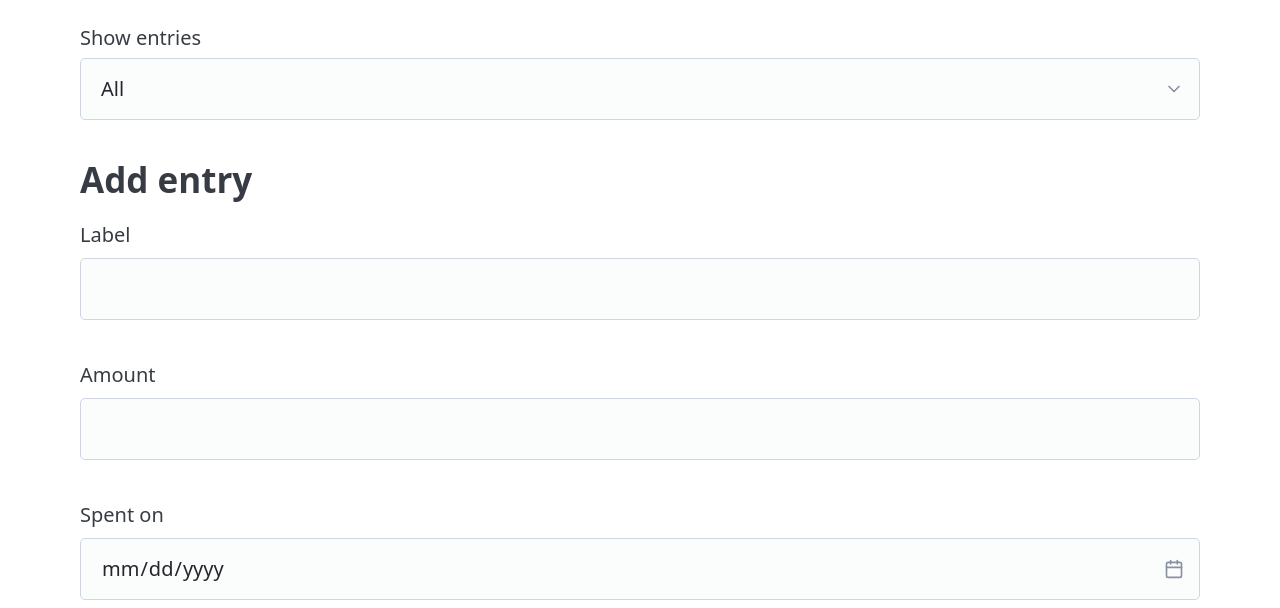
Test case: attribute kinds › round-trips a date and a textarea through the collection
Type "Rent" into the field labelled "Label" at point(640, 289), box left=80, top=258, right=1200, bottom=320
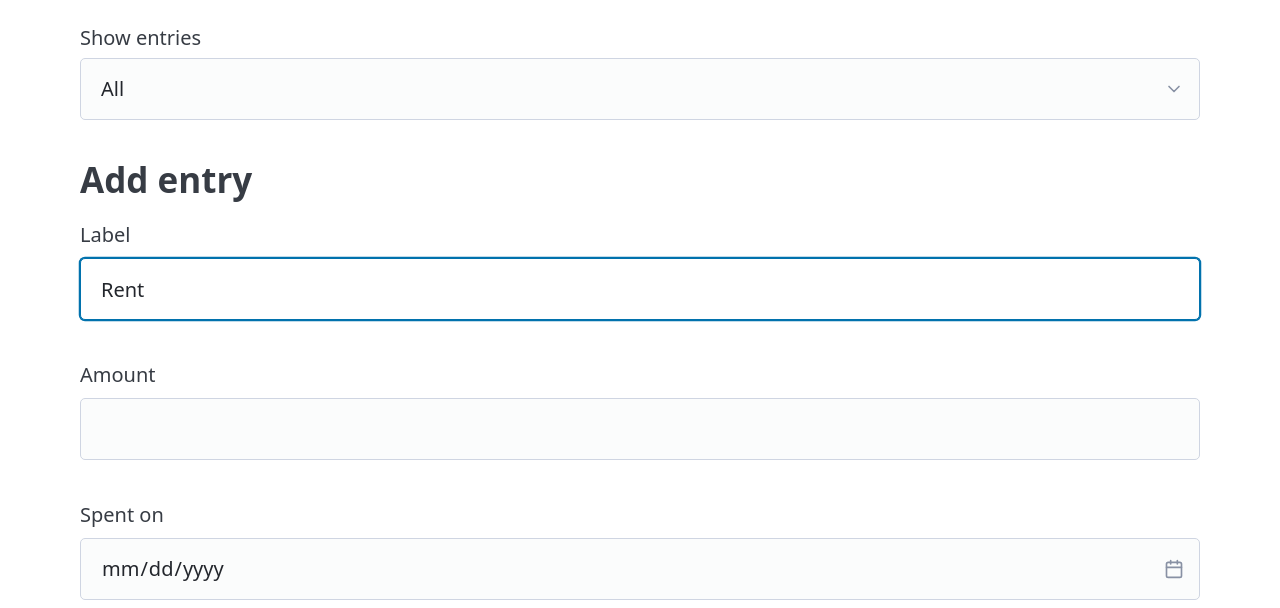
Type "1200" into the number field labelled "Amount" at point(640, 429), box left=80, top=398, right=1200, bottom=460
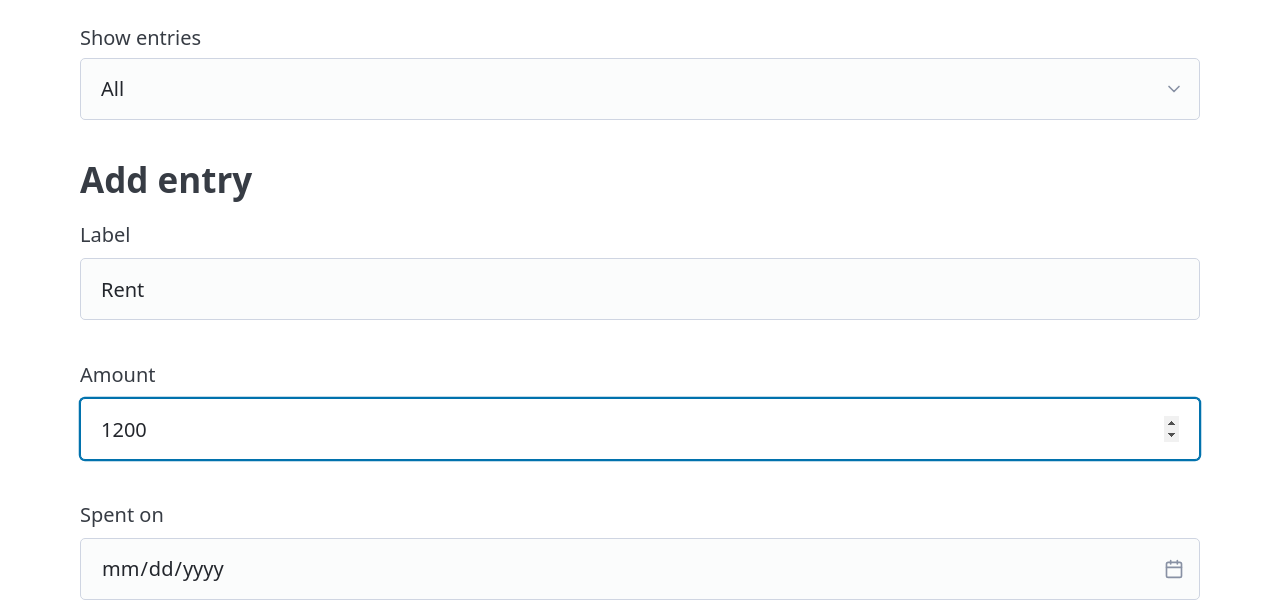
Type "2026-08-31" into the date field labelled "Spent on" at point(640, 569), box left=80, top=538, right=1200, bottom=600
(page scrolled)
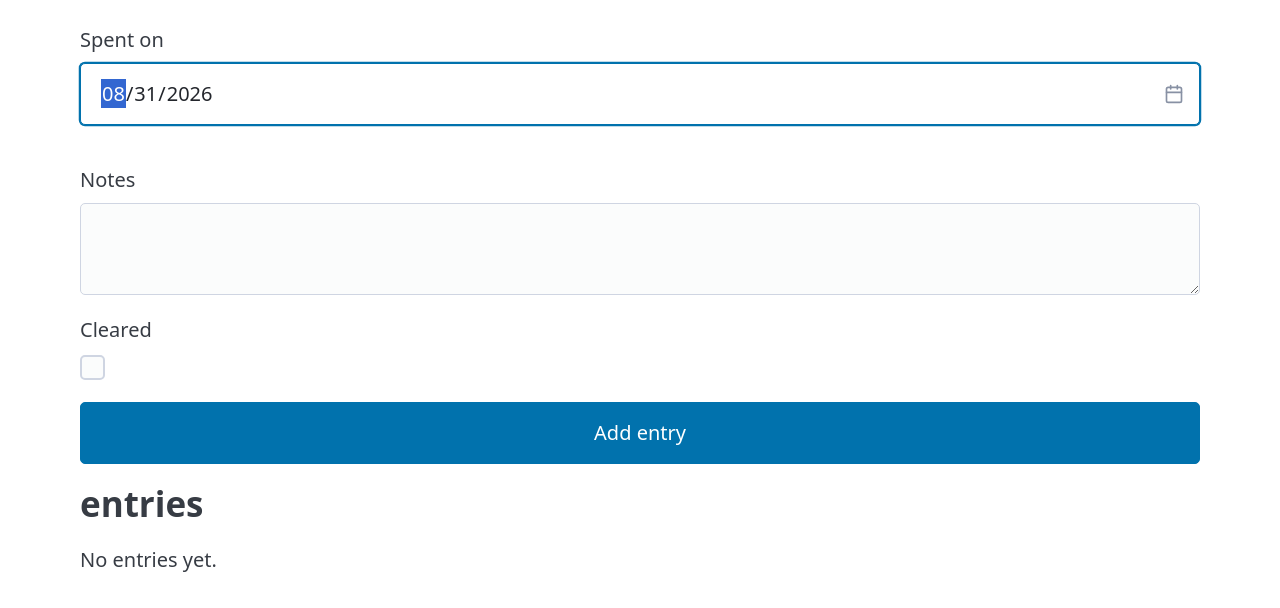
Type "monthly" into the text box labelled "Notes" at point(640, 249), box left=80, top=203, right=1200, bottom=295
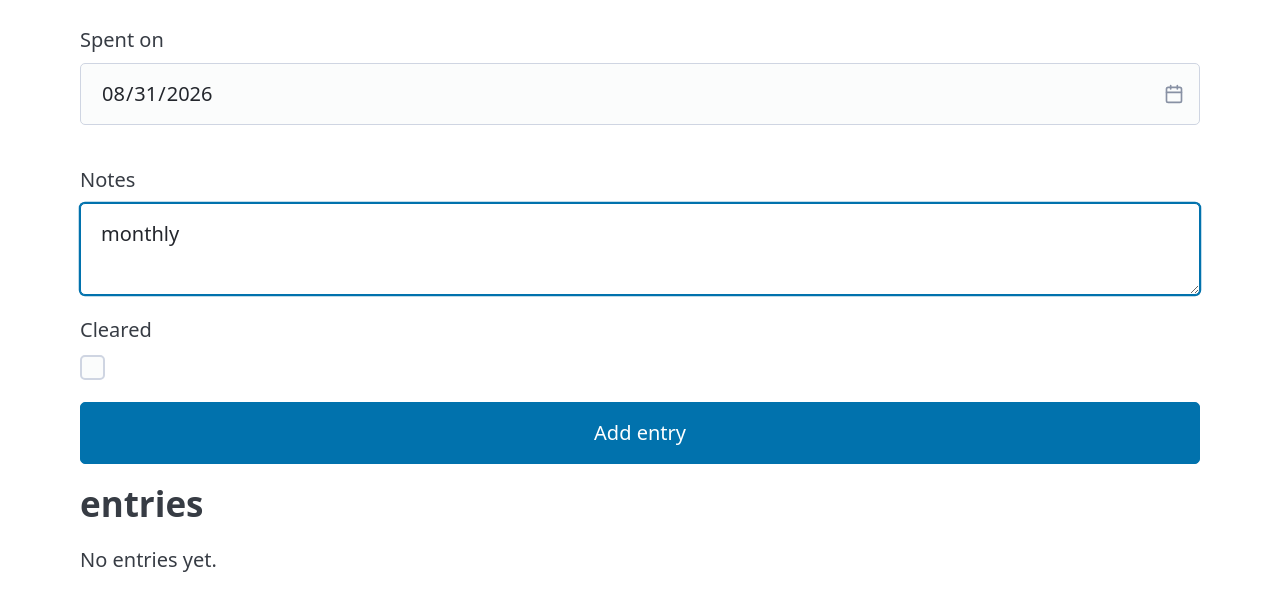
Click the button "Add entry" at point(640, 433), box left=80, top=402, right=1200, bottom=464
(page scrolled)
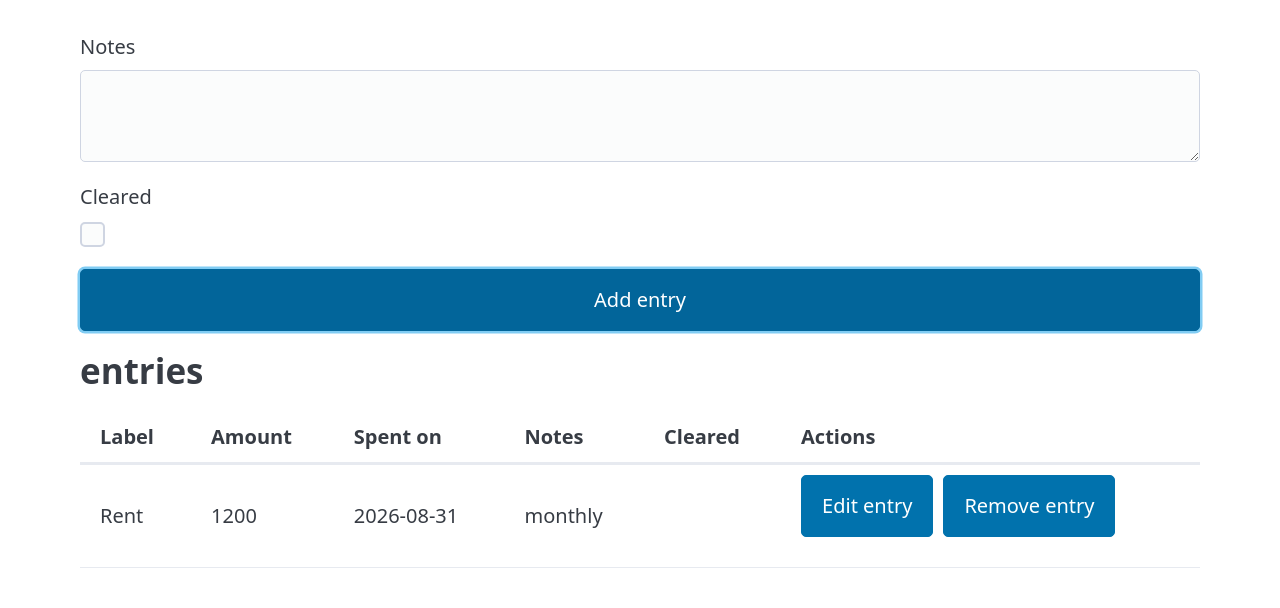
Check: the text "2026-08-31" is shown, box left=334, top=463, right=504, bottom=567
Check: the text "monthly" is shown, box left=504, top=463, right=644, bottom=567
